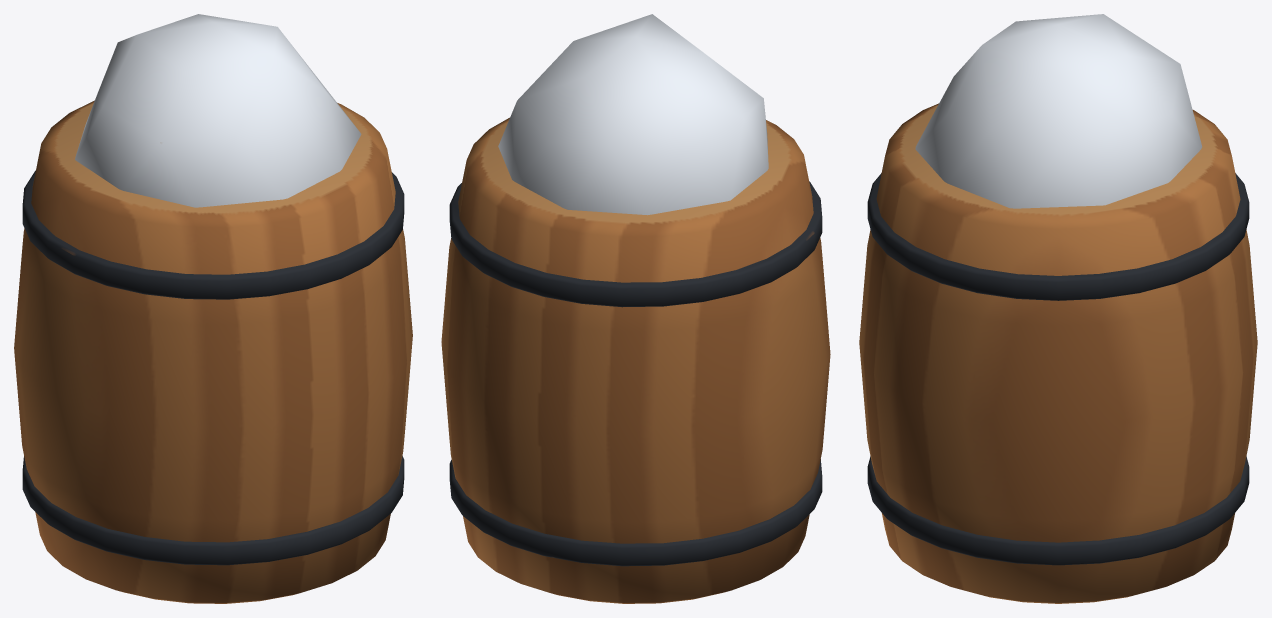
File: barrel.glb
3 renders of one model, left to right at view 1: azimuth 30°, elevation 25°; view 2: azimuth 150°, elevation 25°; view 3: azimuth 270°, elevation 25°, orthographic. The views are drawn at different scales.
Visible parts, largest first — view 1: barrel_body; view 2: barrel_body; view 3: barrel_body.
Boxes of the visible parts, <box> form: barrel_body: <box>14,14,412,603</box>; barrel_body: <box>441,14,830,603</box>; barrel_body: <box>859,14,1257,603</box>.
Bounding box in the file's own units: 0.7888 × 1.12 × 0.7888.
Materials: 1 (1 with a texture image).
